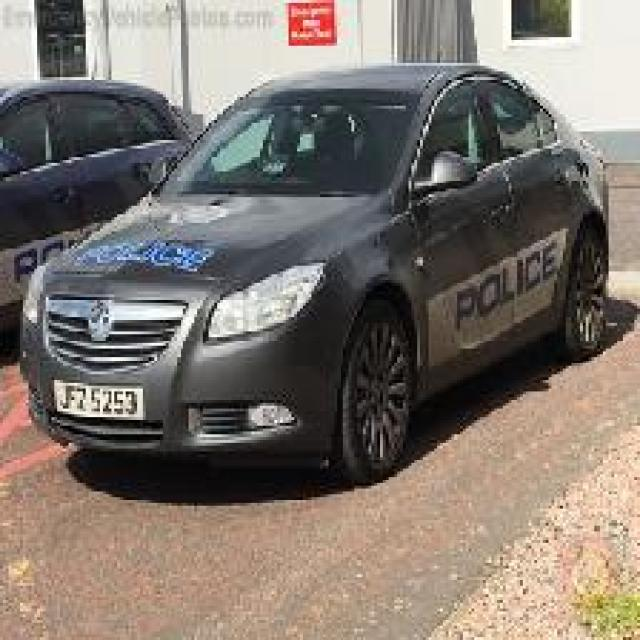Police-car: (17, 60, 609, 486), (0, 74, 197, 360)
